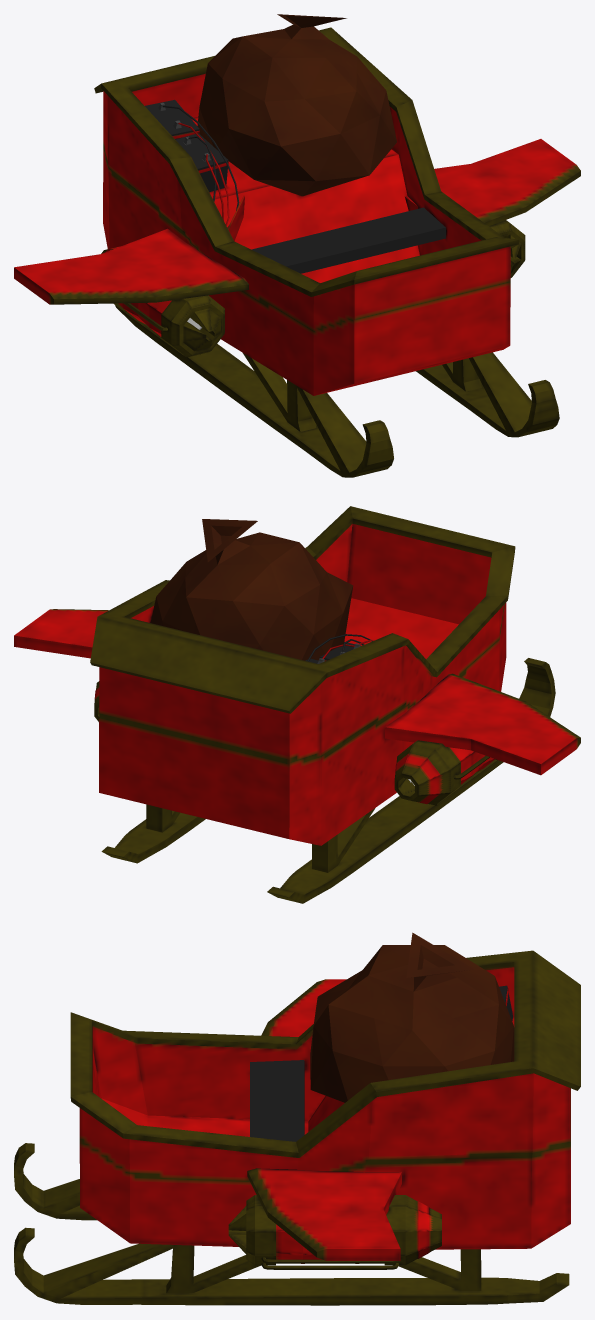
The model's file is SleighFinishedForRealthistime.fbx.
The picture shows the model from 3 angles, top to bottom: view 1: azimuth 30°, elevation 25°; view 2: azimuth 150°, elevation 25°; view 3: azimuth 270°, elevation 25°; orthographic projection. The views are drawn at different scales.
Parts seen in each view (by area): view 1: Sleigh, Bag, RightThruster, Battery2, Battery1, LeftThruster; view 2: Sleigh, Bag, RightThruster; view 3: Sleigh, Bag, LeftThruster.
Boxes of the visible parts, x1,y1,x2,y2 form: Sleigh: (14,27,580,477); Bag: (197,14,396,196); RightThruster: (101,246,224,358); Battery2: (175,133,228,192); Battery1: (145,99,199,139); LeftThruster: (489,220,525,277); Sleigh: (14,506,580,903); Bag: (150,519,353,660); RightThruster: (394,740,498,805); Sleigh: (14,950,580,1305); Bag: (310,932,514,1102); LeftThruster: (228,1195,441,1269).
Bounding box in the file's own units: 637 × 360 × 566.
